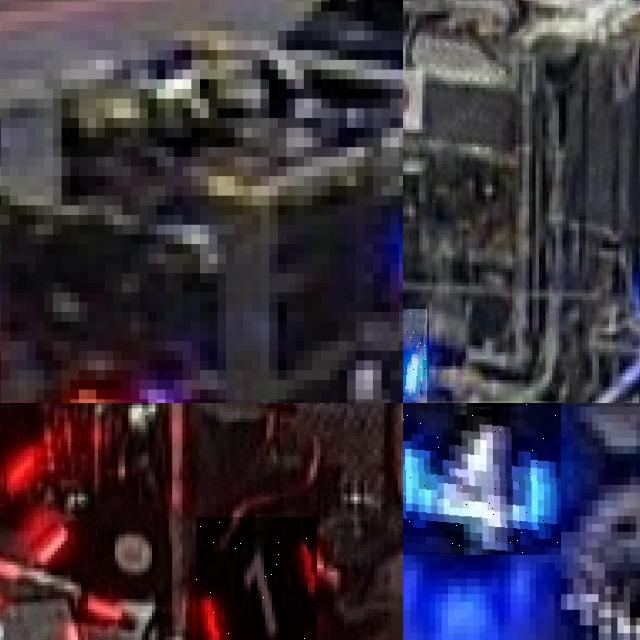B2: (403, 308, 427, 403)
B4: (403, 403, 561, 555)
R1: (195, 517, 317, 640)
